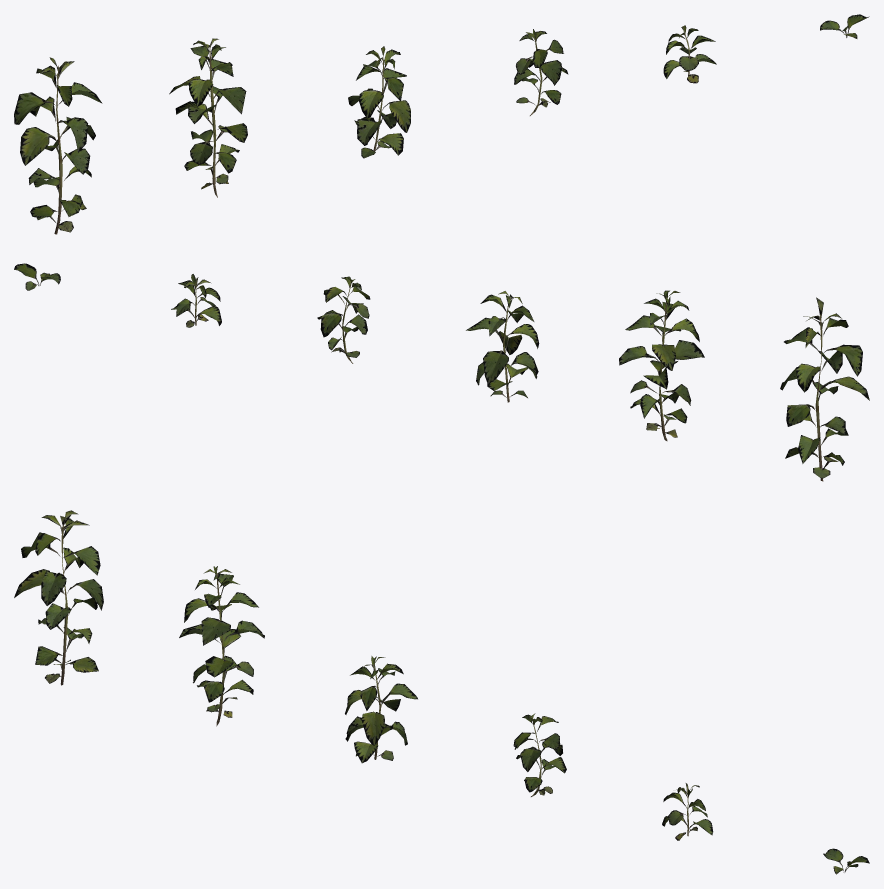
The model's file is nettle_plant.glb.
3 renders of one model, top to bottom at view 1: azimuth 30°, elevation 25°; view 2: azimuth 150°, elevation 25°; view 3: azimuth 330°, elevation 25°, orthographic.
Visible parts, largest first — view 1: nettle_plant_tall_a_LOD0, nettle_plant_tall_b_LOD0, nettle_plant_medium_a_LOD0, nettle_plant_medium_b_LOD0, nettle_plant_small_a_LOD0; view 2: nettle_plant_tall_a_LOD0, nettle_plant_tall_b_LOD0, nettle_plant_medium_a_LOD0, nettle_plant_medium_b_LOD0, nettle_plant_small_a_LOD0, nettle_plant_small_b_LOD0; view 3: nettle_plant_tall_a_LOD0, nettle_plant_tall_b_LOD0, nettle_plant_medium_a_LOD0, nettle_plant_medium_b_LOD0, nettle_plant_small_a_LOD0.
Boxes of the visible parts, x1=… form: nettle_plant_tall_a_LOD0: x1=14, y1=57, x2=102, y2=234; nettle_plant_tall_b_LOD0: x1=169, y1=38, x2=247, y2=197; nettle_plant_medium_a_LOD0: x1=348, y1=46, x2=410, y2=158; nettle_plant_medium_b_LOD0: x1=514, y1=29, x2=568, y2=115; nettle_plant_small_a_LOD0: x1=663, y1=25, x2=716, y2=83; nettle_plant_tall_a_LOD0: x1=780, y1=297, x2=869, y2=481; nettle_plant_tall_b_LOD0: x1=619, y1=290, x2=704, y2=441; nettle_plant_medium_a_LOD0: x1=466, y1=291, x2=539, y2=402; nettle_plant_medium_b_LOD0: x1=317, y1=276, x2=370, y2=363; nettle_plant_small_a_LOD0: x1=171, y1=274, x2=221, y2=327; nettle_plant_small_b_LOD0: x1=14, y1=263, x2=60, y2=290; nettle_plant_tall_a_LOD0: x1=14, y1=510, x2=103, y2=685; nettle_plant_tall_b_LOD0: x1=179, y1=566, x2=264, y2=726; nettle_plant_medium_a_LOD0: x1=345, y1=656, x2=417, y2=763; nettle_plant_medium_b_LOD0: x1=513, y1=713, x2=566, y2=796; nettle_plant_small_a_LOD0: x1=662, y1=783, x2=713, y2=840.
Size of the model in its own units: 1.08 by 0.2139 by 0.0947.
1 material, 1 textured.
